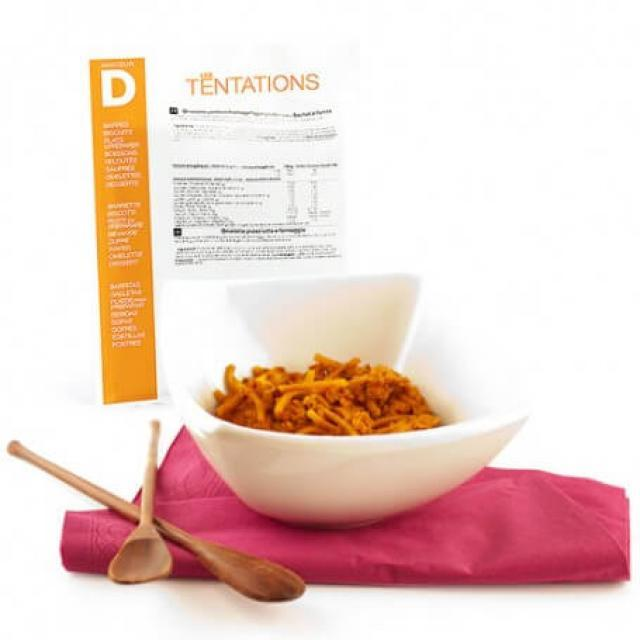Pasta al ragu: (176, 309, 505, 515)
